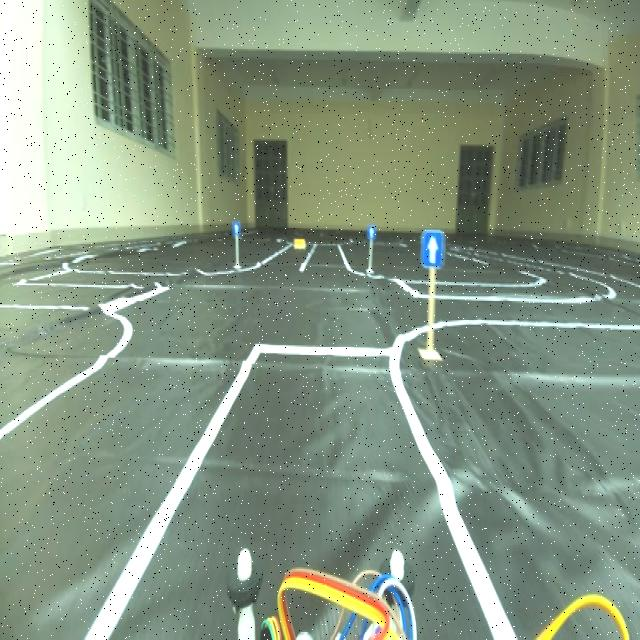onewayroad: (419, 224, 446, 275), (228, 214, 241, 236), (365, 220, 376, 242)
roadblock: (292, 235, 308, 250)
